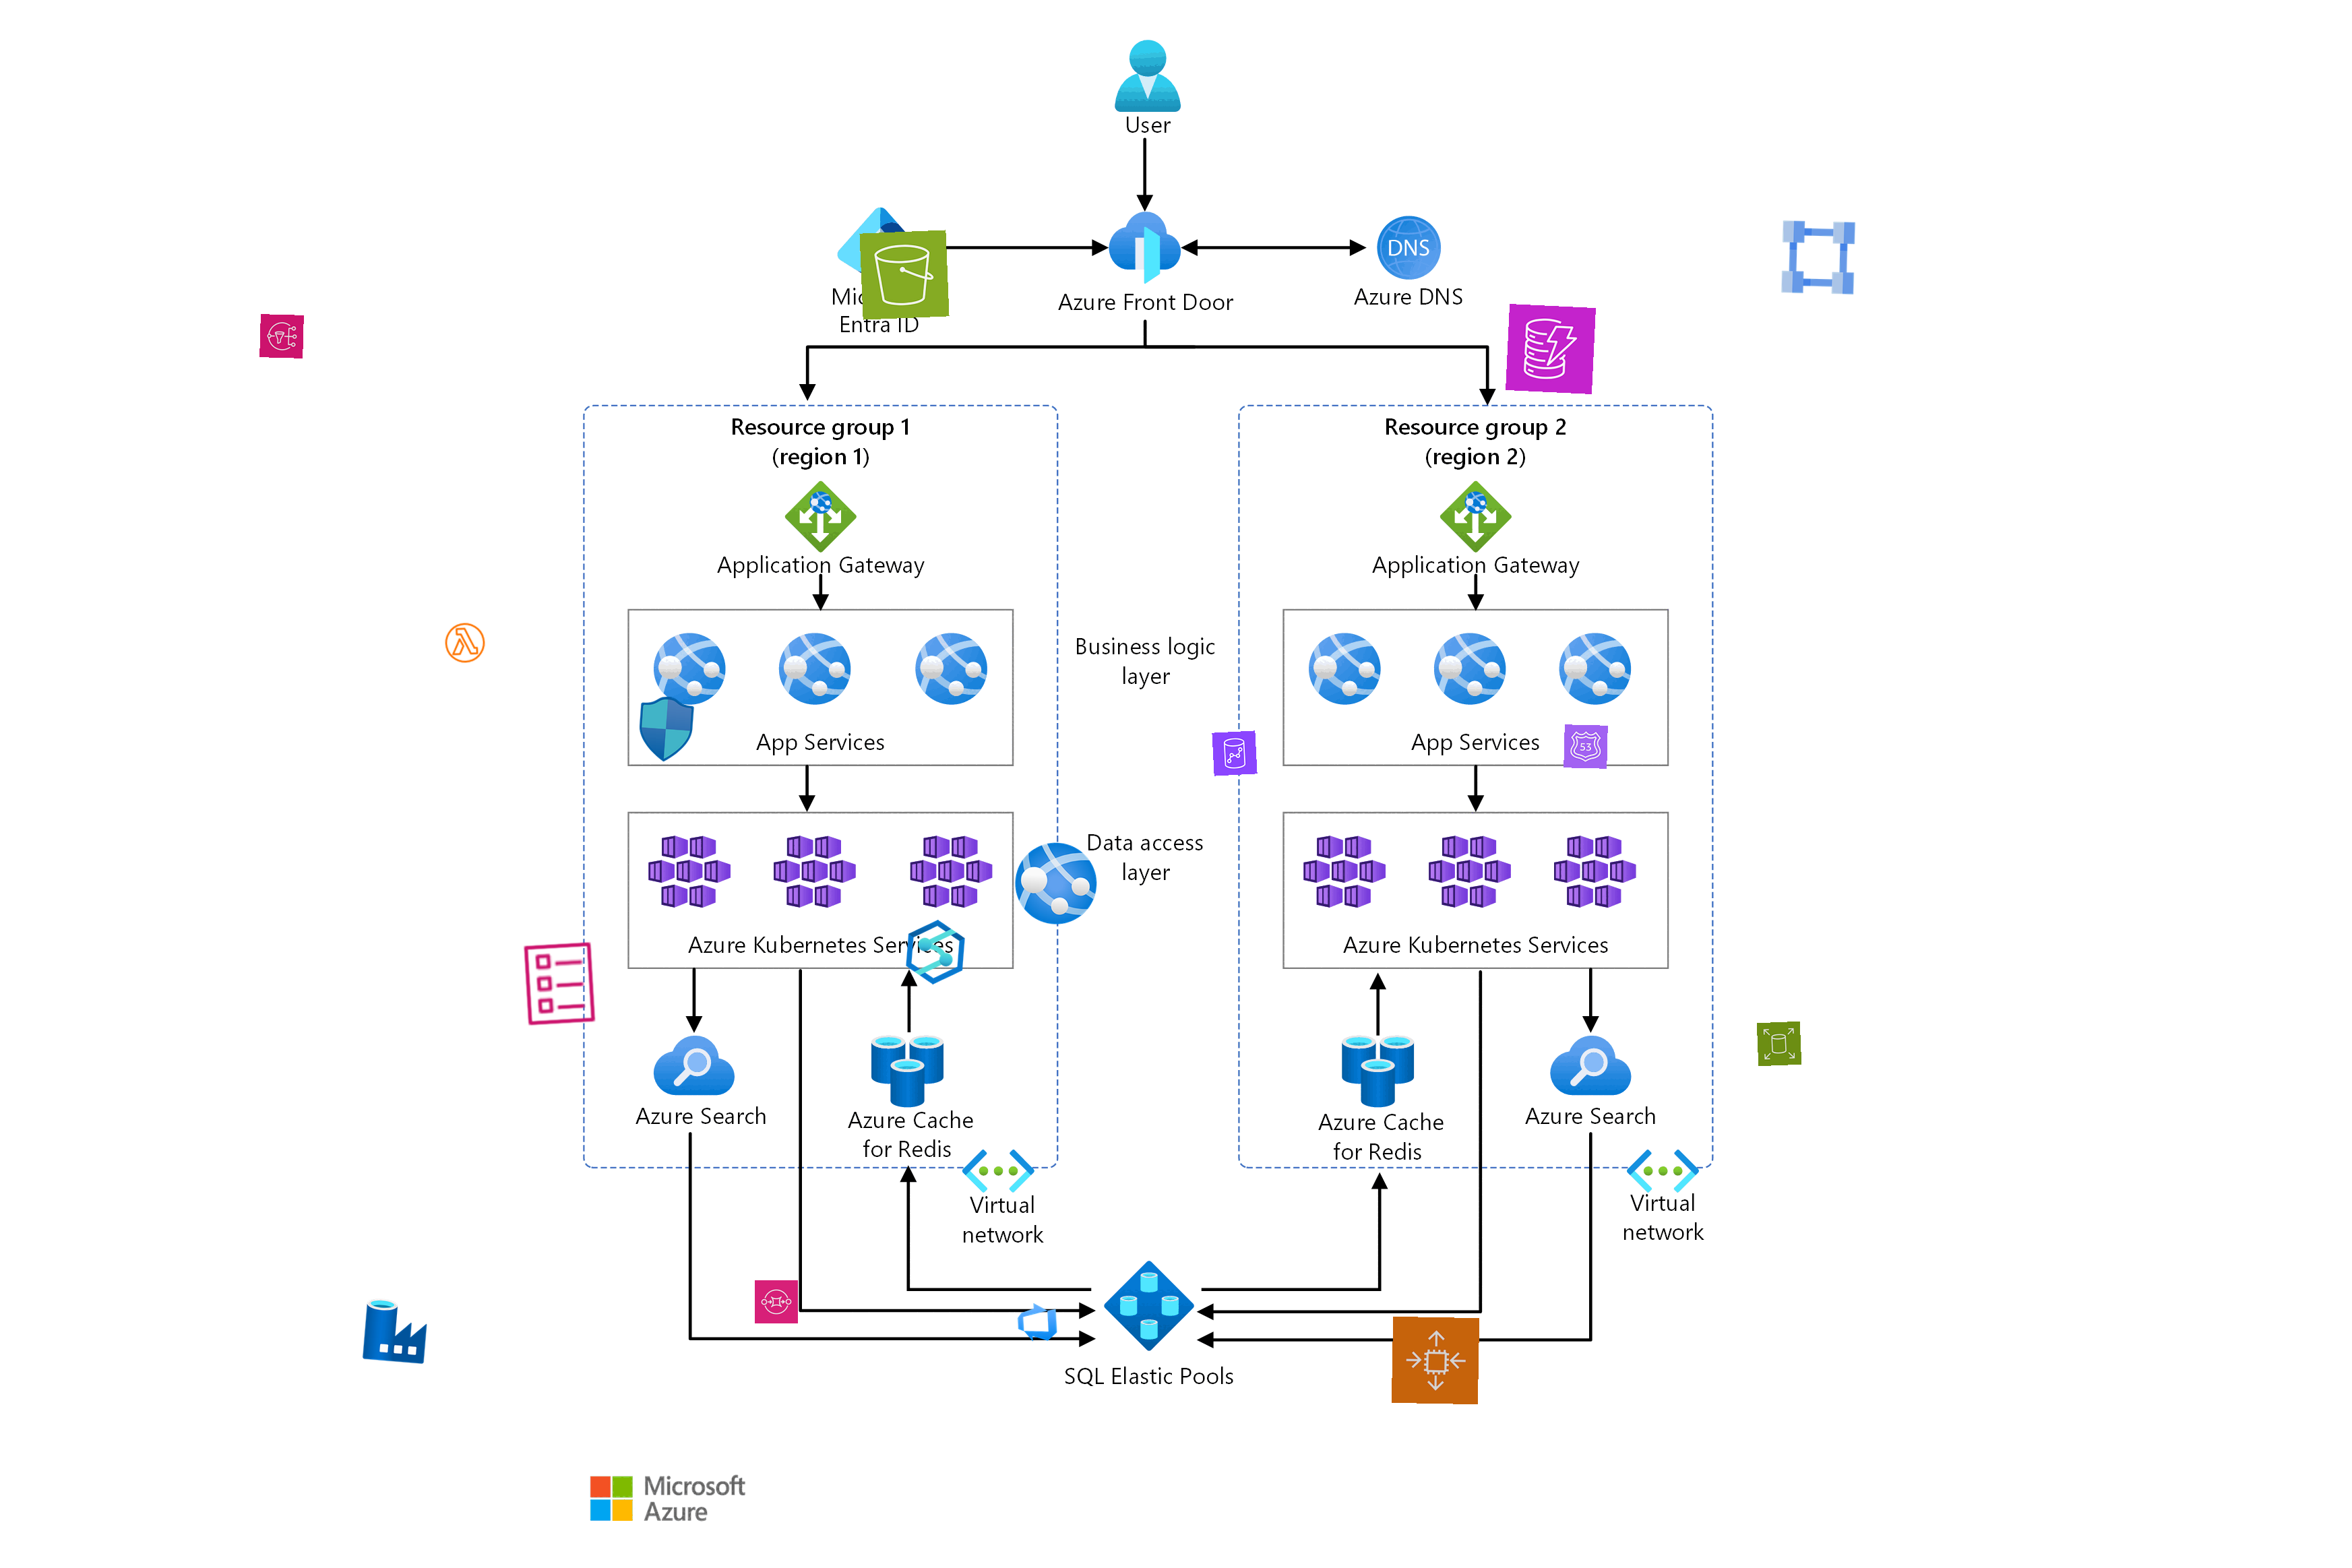aws_amazon_dynamodb: (1505, 305, 1596, 394)
aws_amazon_ec2_auto_scaling: (1391, 1316, 1480, 1405)
aws_amazon_elastic_block_store: (1757, 1020, 1803, 1067)
aws_amazon_redshift: (1211, 730, 1258, 777)
aws_amazon_route_53: (1563, 725, 1608, 768)
aws_amazon_simple_notification_service: (259, 313, 304, 359)
aws_amazon_simple_queue_service: (754, 1279, 798, 1325)
aws_amazon_simple_storage_service: (859, 229, 950, 320)
aws_cloudformation_template: (513, 938, 604, 1029)
aws_lambda_lambda_function: (443, 619, 488, 665)
azure_app_services: (1010, 837, 1102, 929)
azure_data_factories: (360, 1295, 430, 1365)
azure_devops: (1015, 1298, 1060, 1346)
azure_network_security_groups: (630, 695, 702, 765)
azure_synapse_analytics: (899, 917, 971, 987)
gcp_virtual_private_cloud: (1774, 214, 1862, 303)
